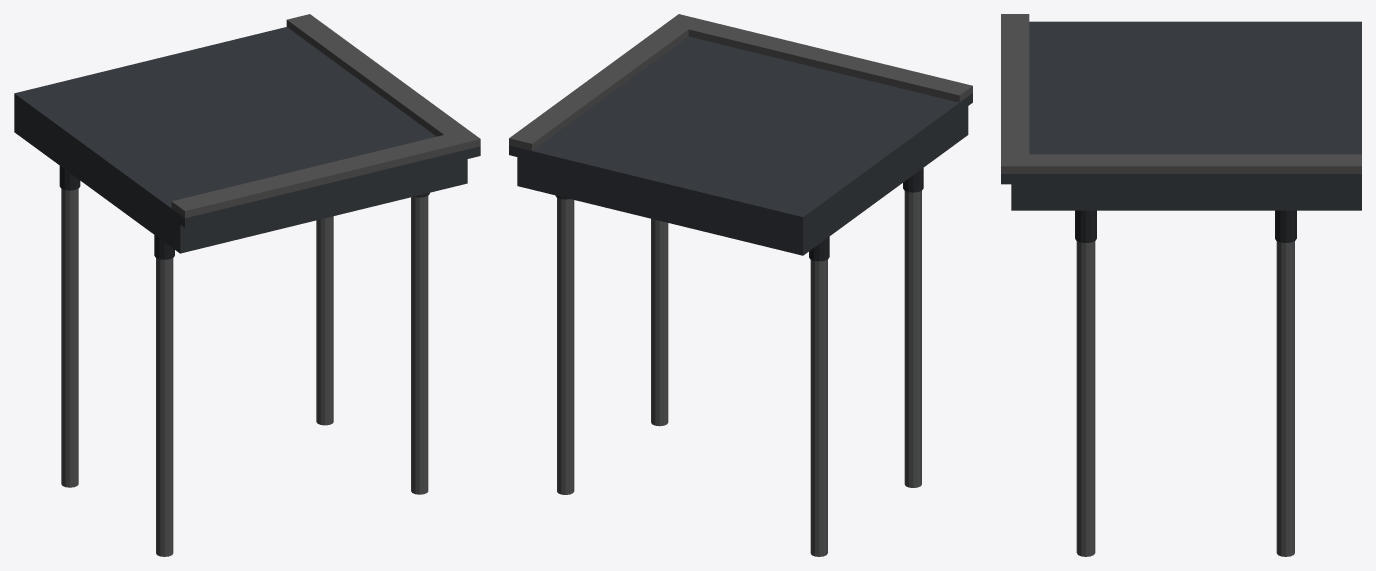
Rendered from PortGround_2.fbx.
3 views of the same model, side by side, from view 1: azimuth 30°, elevation 25°; view 2: azimuth 150°, elevation 25°; view 3: azimuth 270°, elevation 25° (orthographic). The views are drawn at different scales.
Parts seen in each view (by area): view 1: PortGround_2; view 2: PortGround_2; view 3: PortGround_2.
Part boxes in pixels (x1,y1,x2,y2): PortGround_2: [14, 14, 480, 556]; PortGround_2: [509, 14, 972, 556]; PortGround_2: [1001, 14, 1361, 556].
Size of the model in its own units: 1595 by 1940 by 1595.
